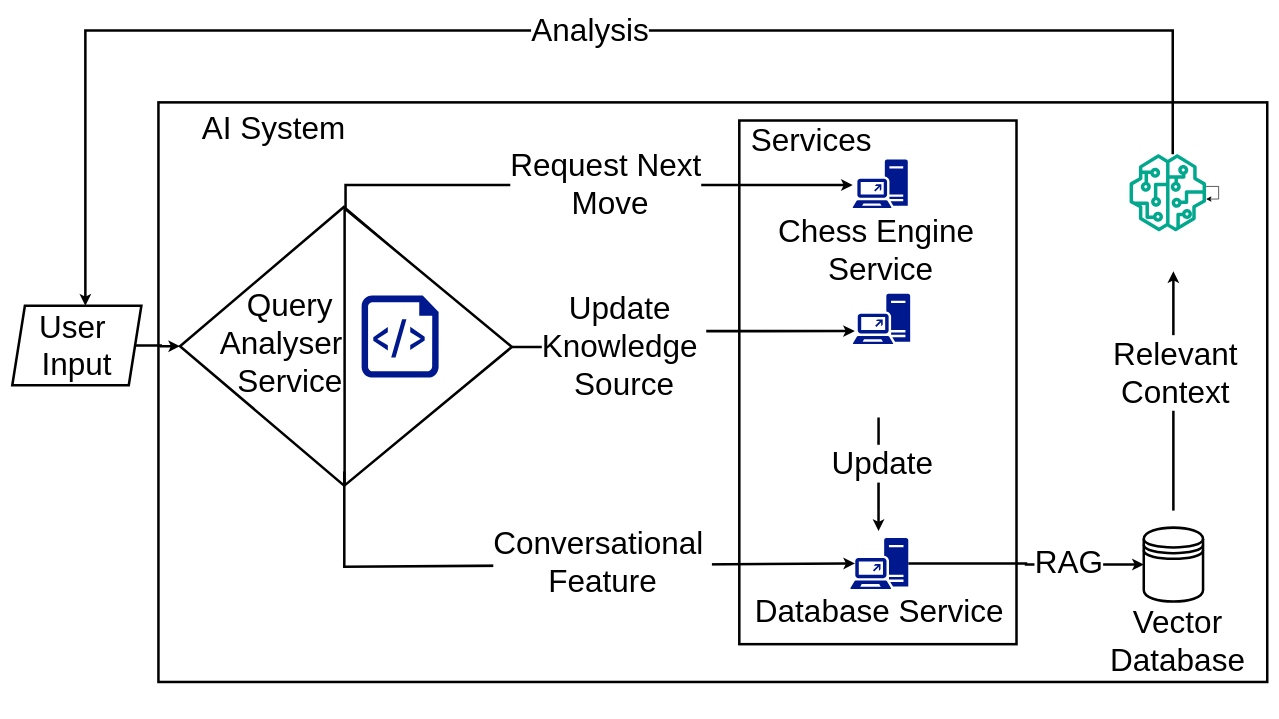
This 1279x719 diagram has some shape labels left out. The shapes that lost their labels are listed below. From the top down, each one's centre as x and y in pixels, then its label:
[1167,192]: LLM Agent
[881,318]: Vector DB Update Service
